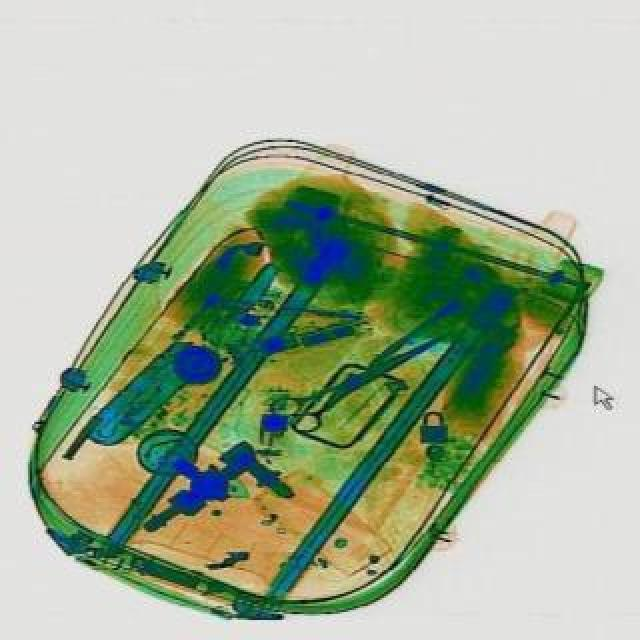pliers: (264, 312, 466, 444)
